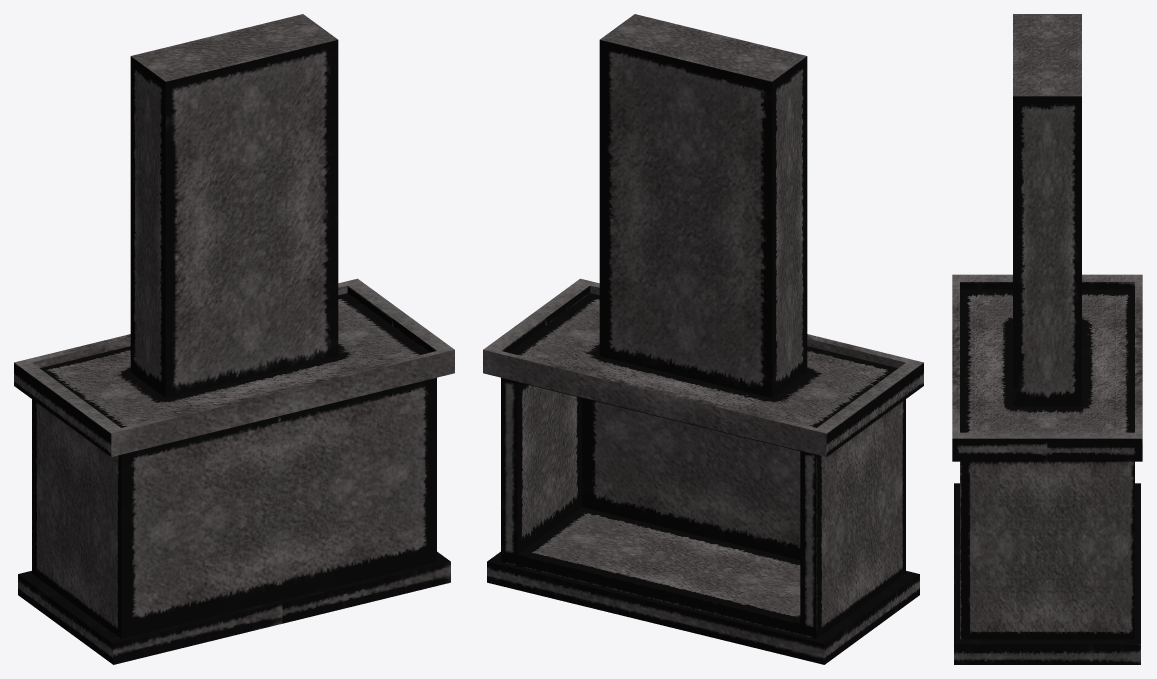
The model's file is Lareira.fbx.
3 views of the same model, side by side, from view 1: azimuth 30°, elevation 25°; view 2: azimuth 150°, elevation 25°; view 3: azimuth 270°, elevation 25° (orthographic). The views are drawn at different scales.
Visible parts, largest first — view 1: Lareira; view 2: Lareira; view 3: Lareira.
Boxes of the visible parts, bbox=[...] form: Lareira: bbox=[14, 14, 454, 664]; Lareira: bbox=[483, 14, 923, 664]; Lareira: bbox=[952, 14, 1142, 664].
Size of the model in its own units: 204 by 306 by 99.78.
Materials: 1 (1 with a texture image).
